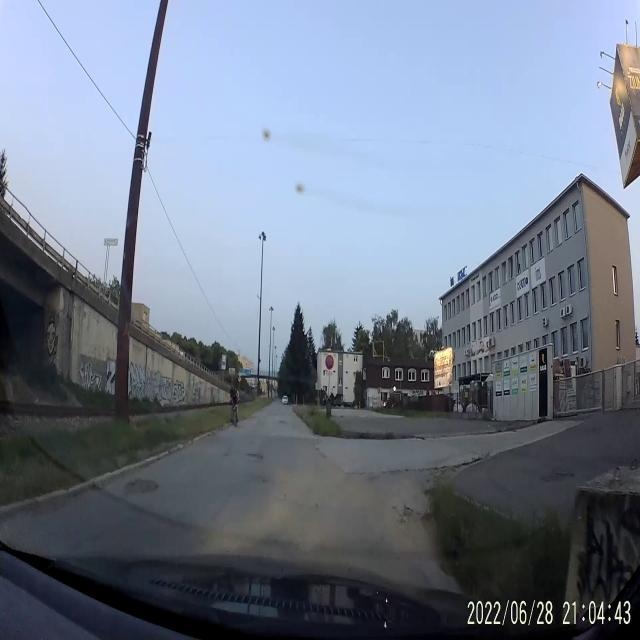Pothole: (125, 477, 161, 499), (392, 504, 420, 526), (246, 451, 264, 462), (278, 418, 286, 426), (222, 452, 229, 459)
